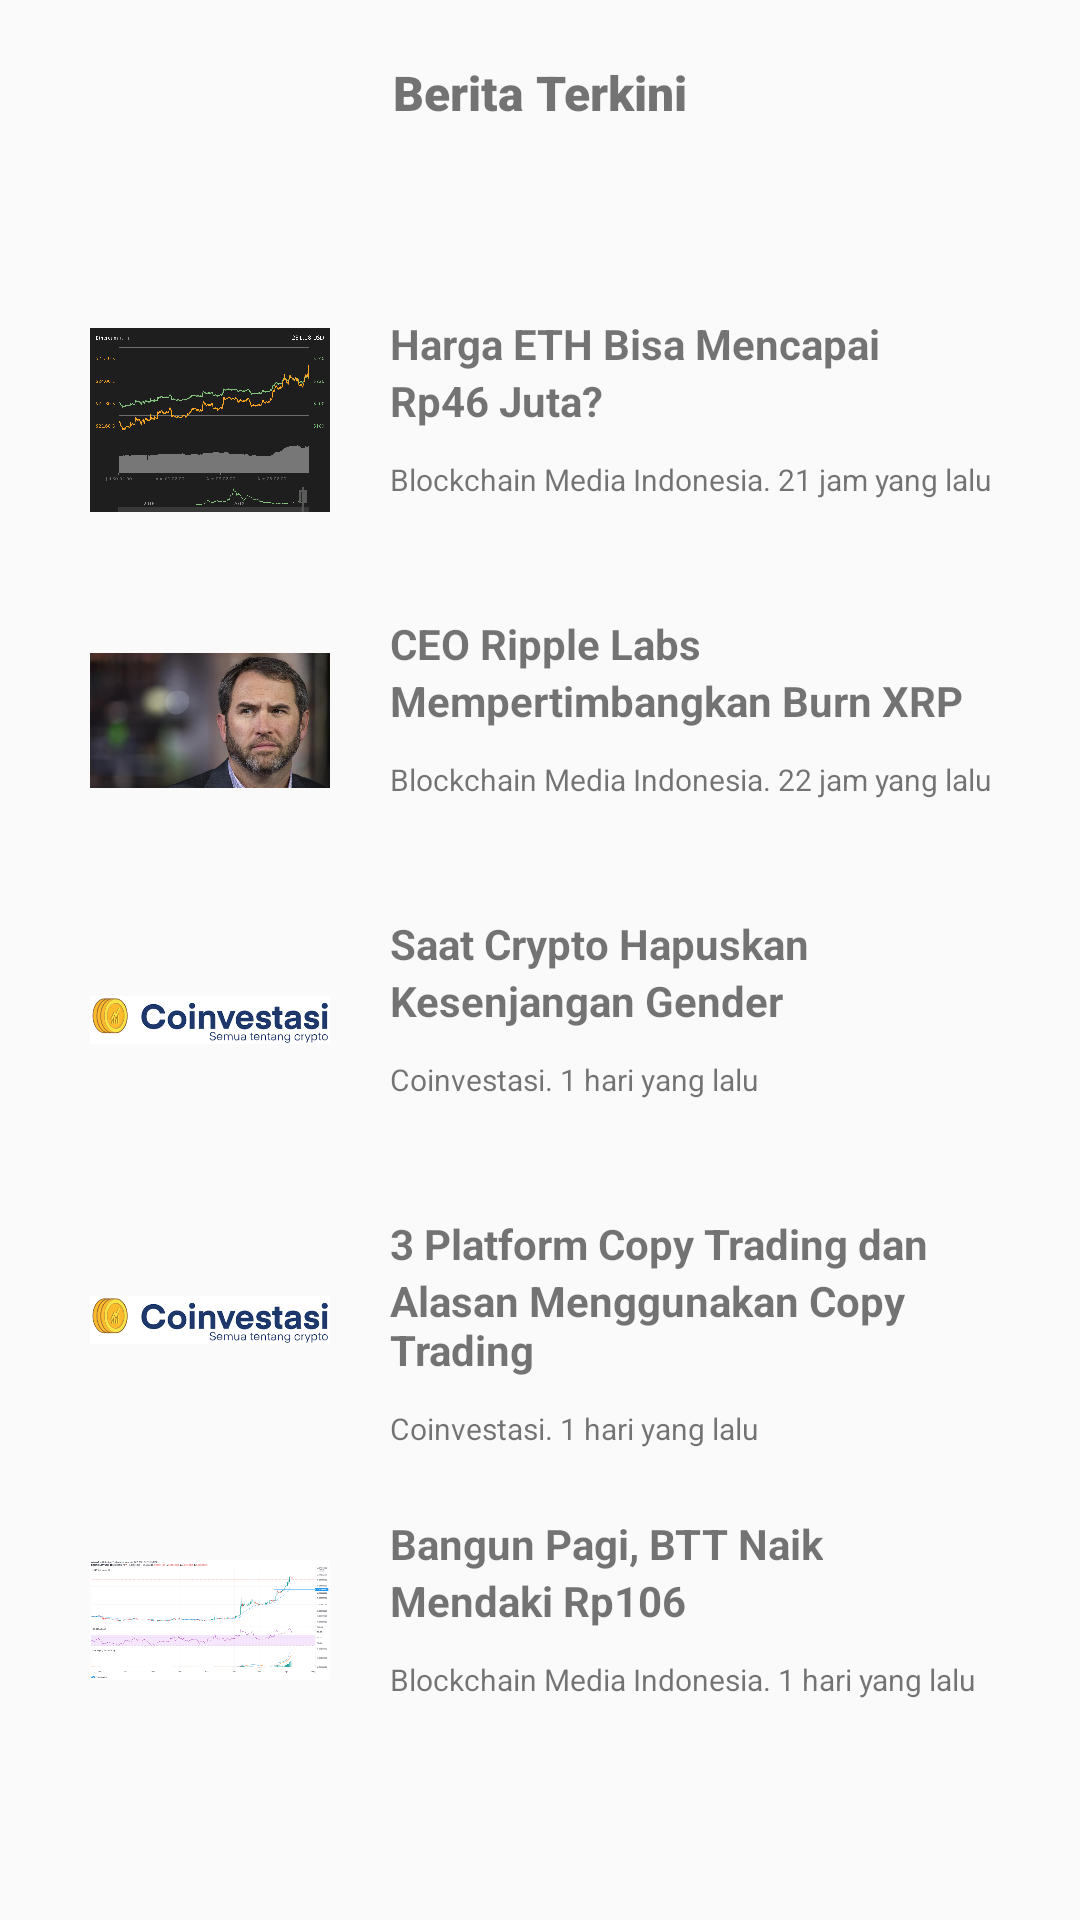

Where to tap for icons on this 1080px x 1920px app screen, as [x,y]:
bttchart: [210,1619]
ethgraphh: [210,420]
